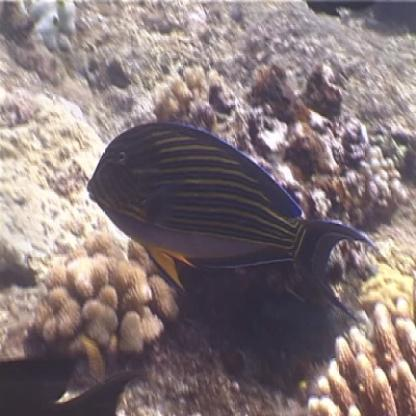Acanthuridae -Surgeonfishes-: (84, 117, 371, 330)
